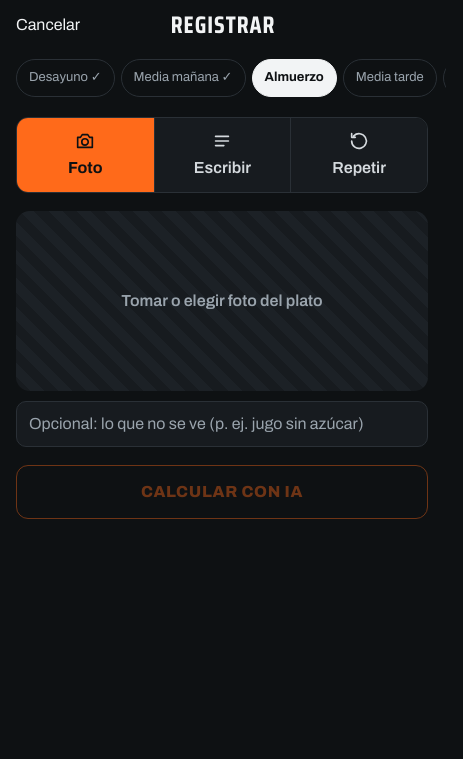
it: FormRegistrar › si contesta 'sin azúcar' el jugo baja a 12 g de carbohidrato
The width and height of the screenshot is (463, 759).
Click the tab "Escribir": {"x": 222, "y": 154} [154,118,290,192]
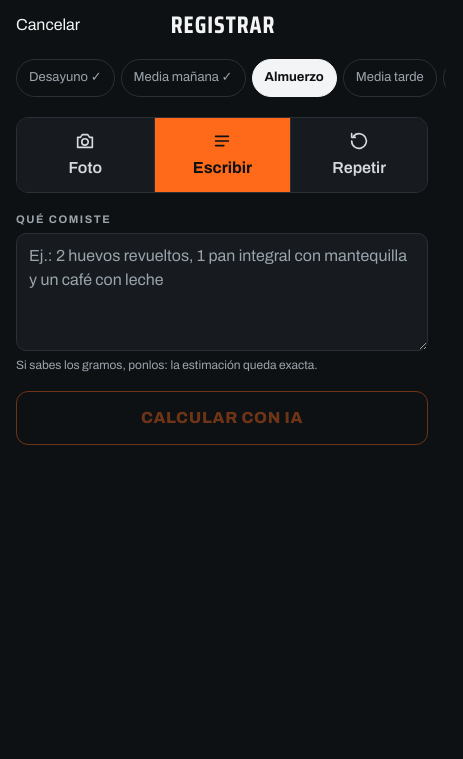
Replace the text in the text box labelled "Qué comiste" with "almuerzo": {"x": 222, "y": 292} [16,233,428,351]
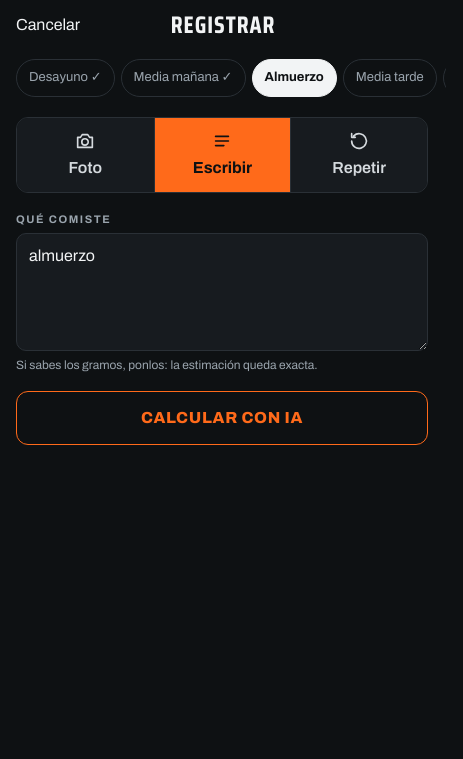
Click the button "CALCULAR CON IA": {"x": 222, "y": 418} [16,391,428,445]
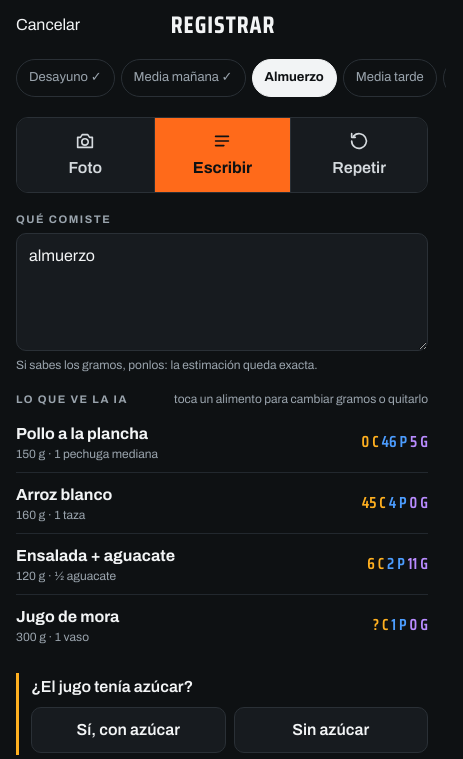
Click the button "Sin azúcar": {"x": 331, "y": 730} [234,706,428,752]
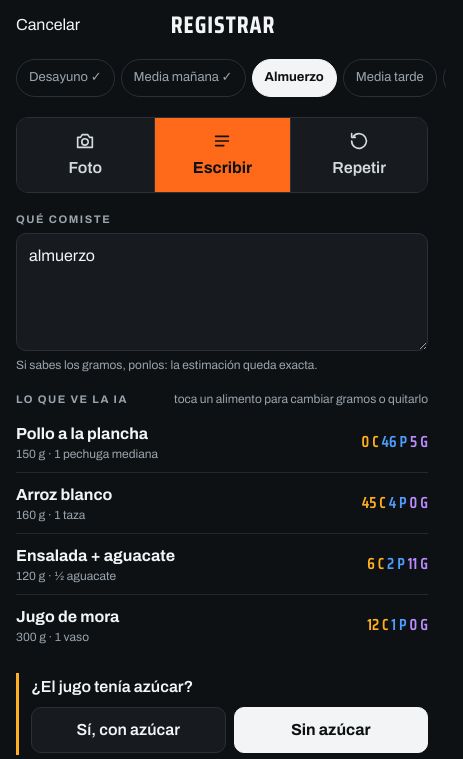
Expected: the text "12 C" is shown, [367,612,388,636]
